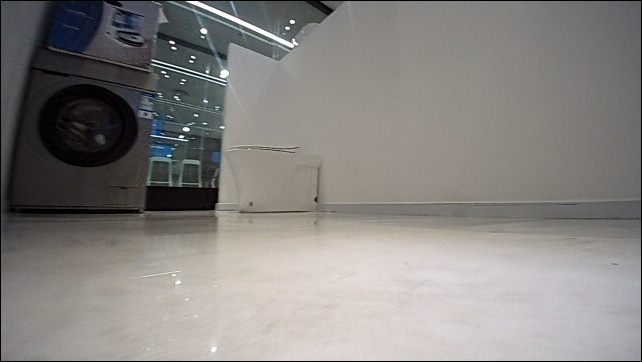toilet: (222, 142, 322, 212)
washing_machine: (6, 47, 159, 216)
